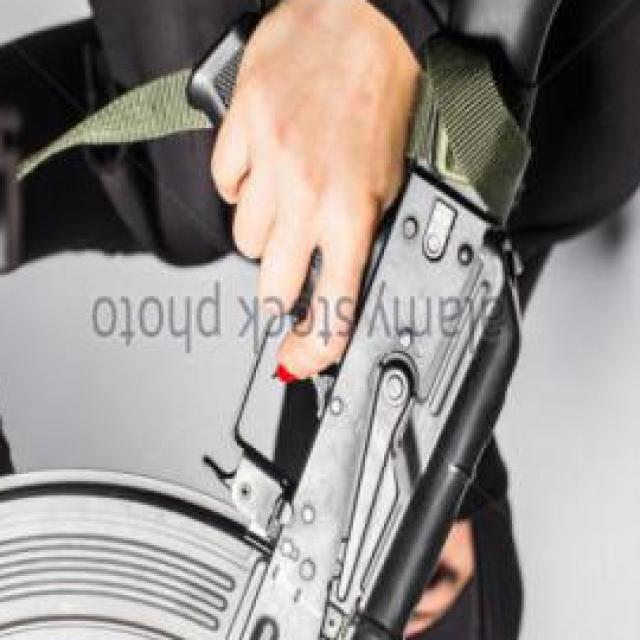pistol: (178, 0, 578, 640)
